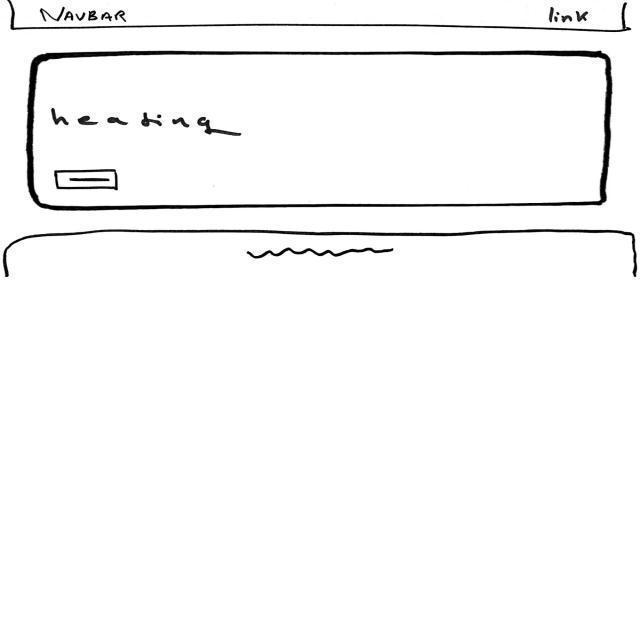container: (29, 52, 613, 211), (8, 1, 630, 32)
icon-button: (52, 168, 121, 193)
label: (50, 107, 246, 138), (35, 6, 129, 24), (544, 6, 589, 26)
text: (242, 247, 395, 262)
